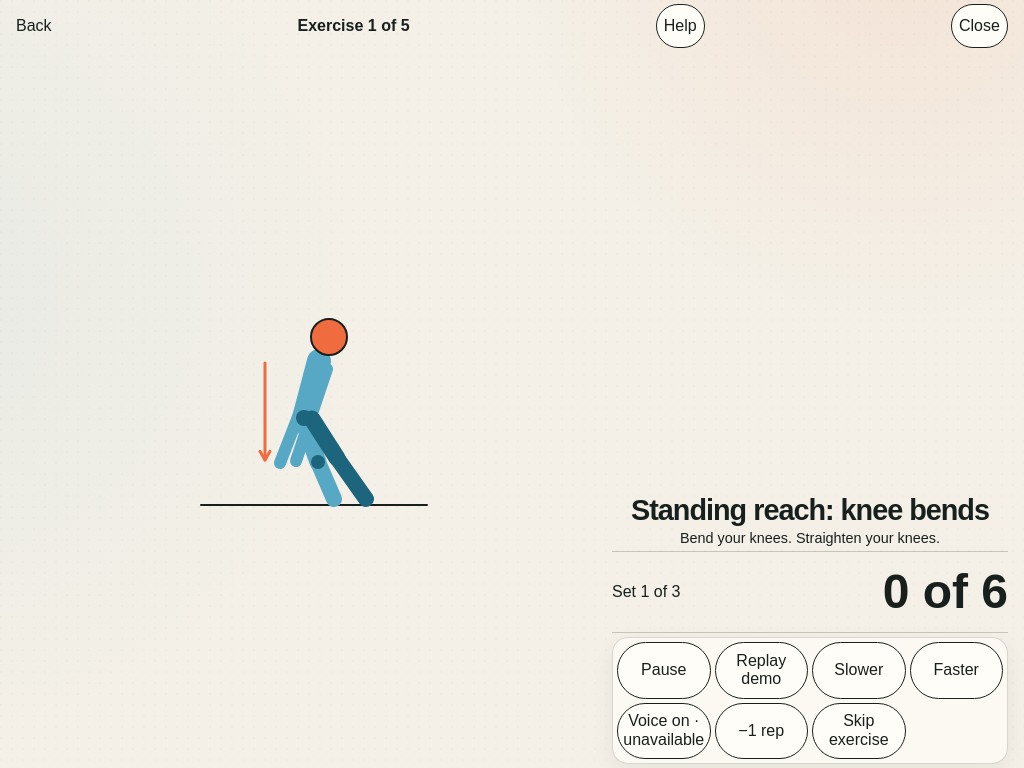
Test: SessionPlayer › labels voice truthfully and explains local speech fallback without disabling tones
The width and height of the screenshot is (1024, 768).
Click the button named "Voice on. Local speech is unavailable; captions and tones remain usable." at (664,731), box left=617, top=703, right=710, bottom=759
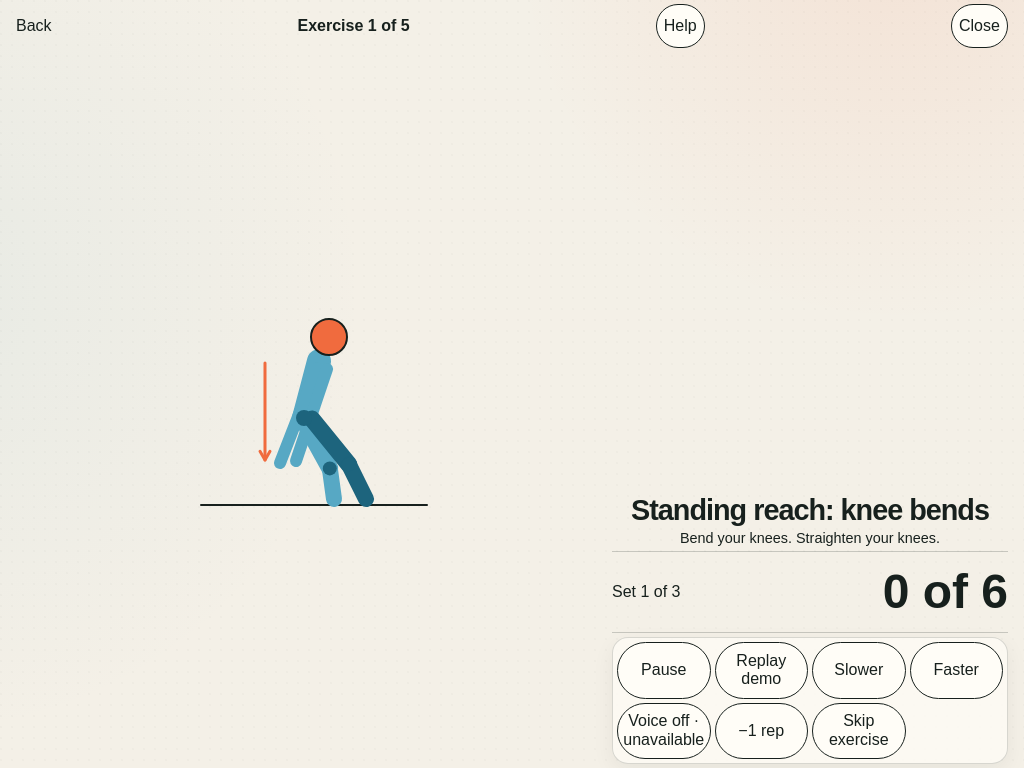
Now the button named "Voice off. Local speech is unavailable; captions and tones remain usable." reads "Voice off · unavailable", box left=617, top=703, right=710, bottom=759
